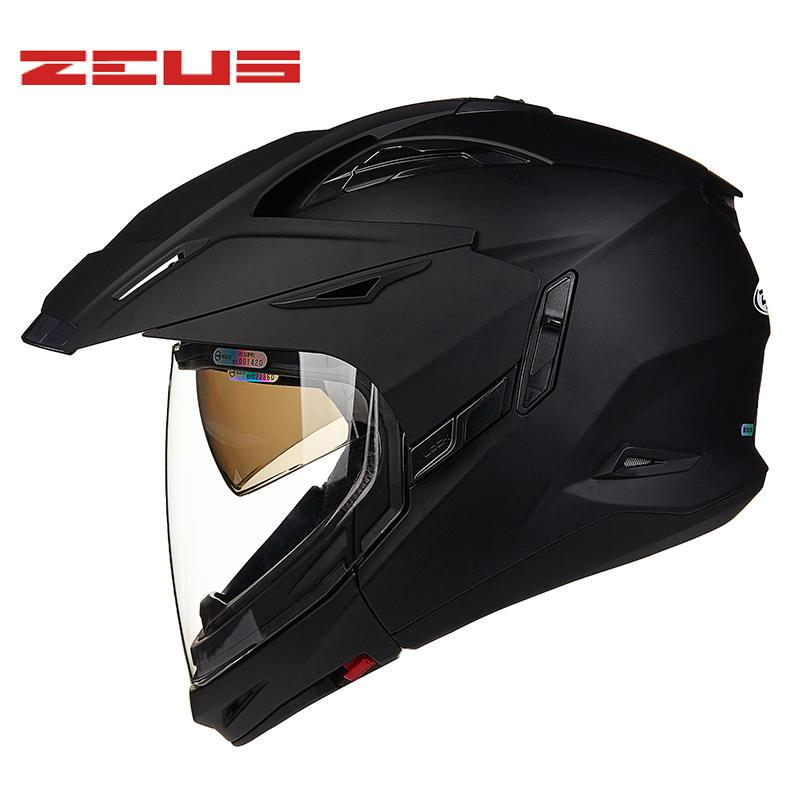with_helmet: (20, 90, 794, 753)
